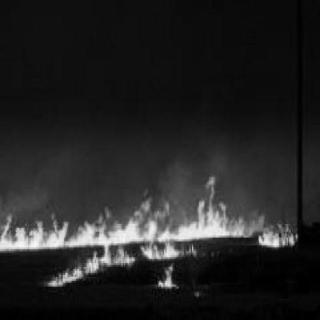Fire: (45, 242, 133, 286)
